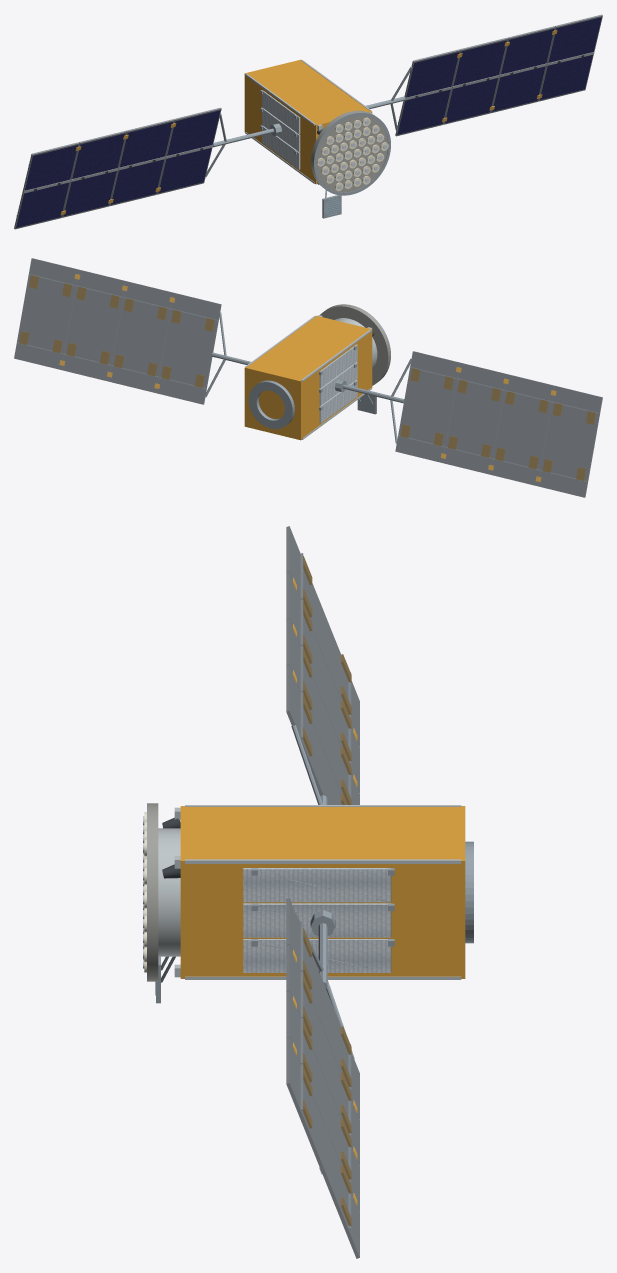
Rendered from ref-proteus-32781.glb.
The picture shows the model from 3 angles, top to bottom: view 1: azimuth 30°, elevation 25°; view 2: azimuth 150°, elevation 25°; view 3: azimuth 270°, elevation 25°; orthographic projection. The views are drawn at different scales.
Visible parts, largest first — view 1: Photovoltaic laminate (×16), Insulated spacecraft body, Solar array leaf (×8), L-band navigation antenna carrier, Optical radiator bay (×3), Antenna retaining rim, Laser retroreflector tray, Solar array boom; view 2: Solar array leaf (×8), Insulated spacecraft body, Optical radiator bay (×3), L-band navigation antenna carrier, Launch interface ring; view 3: Insulated spacecraft body, Solar array leaf (×8), Optical radiator bay (×3), Navigation antenna pedestal, Body corner rail (×2), L-band navigation antenna carrier.
Part boxes in pixels (x1=…): Photovoltaic laminate (×16): x1=16, y1=17, x2=601, y2=227; Insulated spacecraft body: x1=244, y1=59, x2=372, y2=184; Solar array leaf (×8): x1=14, y1=14, x2=602, y2=229; L-band navigation antenna carrier: x1=311, y1=110, x2=387, y2=192; Optical radiator bay (×3): x1=262, y1=90, x2=300, y2=169; Antenna retaining rim: x1=313, y1=112, x2=390, y2=195; Laser retroreflector tray: x1=322, y1=195, x2=341, y2=218; Solar array boom: x1=213, y1=128, x2=274, y2=147; Solar array leaf (×8): x1=14, y1=258, x2=602, y2=497; Insulated spacecraft body: x1=244, y1=315, x2=372, y2=440; Optical radiator bay (×3): x1=319, y1=344, x2=357, y2=423; L-band navigation antenna carrier: x1=320, y1=304, x2=390, y2=385; Launch interface ring: x1=248, y1=380, x2=294, y2=429; Insulated spacecraft body: x1=180, y1=806, x2=465, y2=978; Solar array leaf (×8): x1=286, y1=526, x2=359, y2=1258; Optical radiator bay (×3): x1=243, y1=868, x2=391, y2=972; Navigation antenna pedestal: x1=158, y1=828, x2=180, y2=956; Body corner rail (×2): x1=185, y1=859, x2=461, y2=979; L-band navigation antenna carrier: x1=148, y1=803, x2=158, y2=981.
Bounding box in the file's own units: 9.62 × 1.67 × 2.42.
13 materials, 2 textured.
